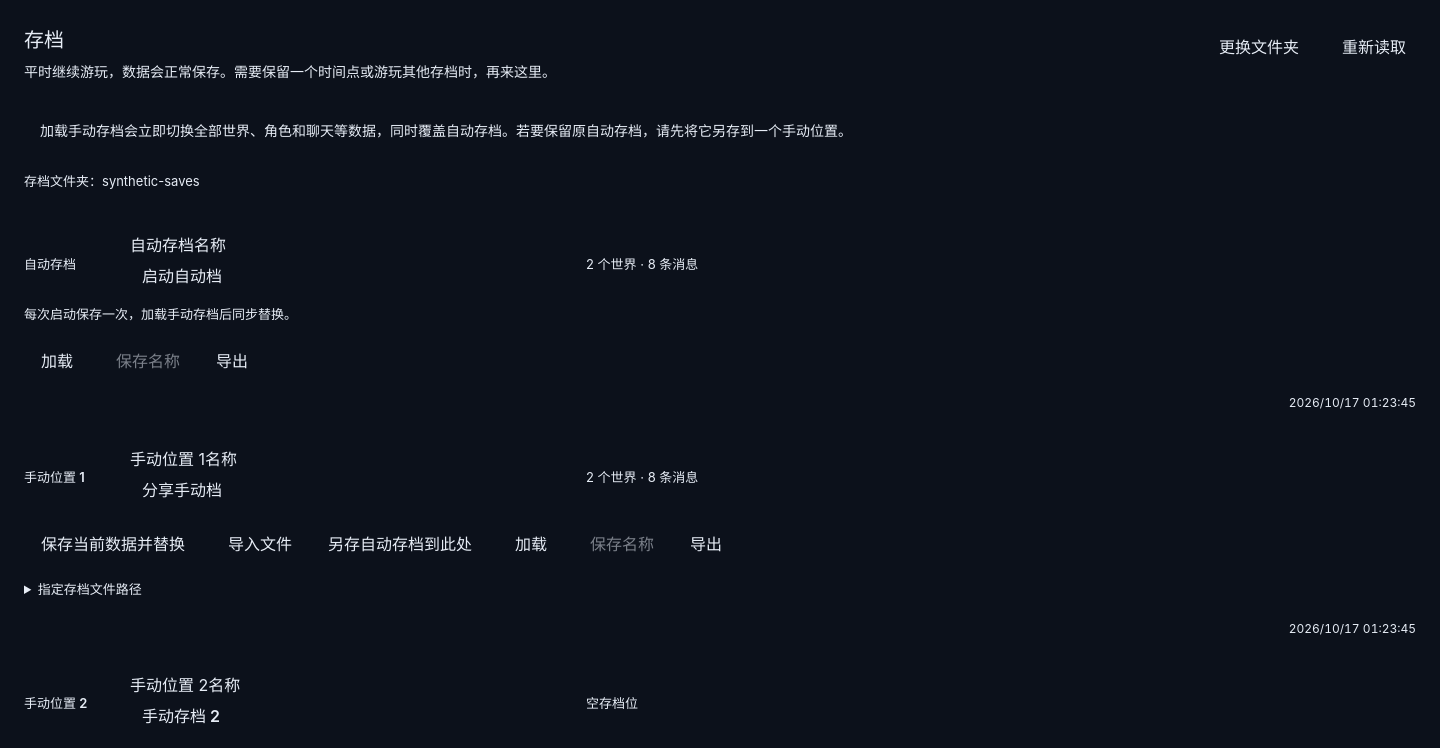
Scenario: keeps existing saves visible on a failed load and offers reconnection
Click the 2nd button "加载" at (531, 544), box [498,522,564,565]
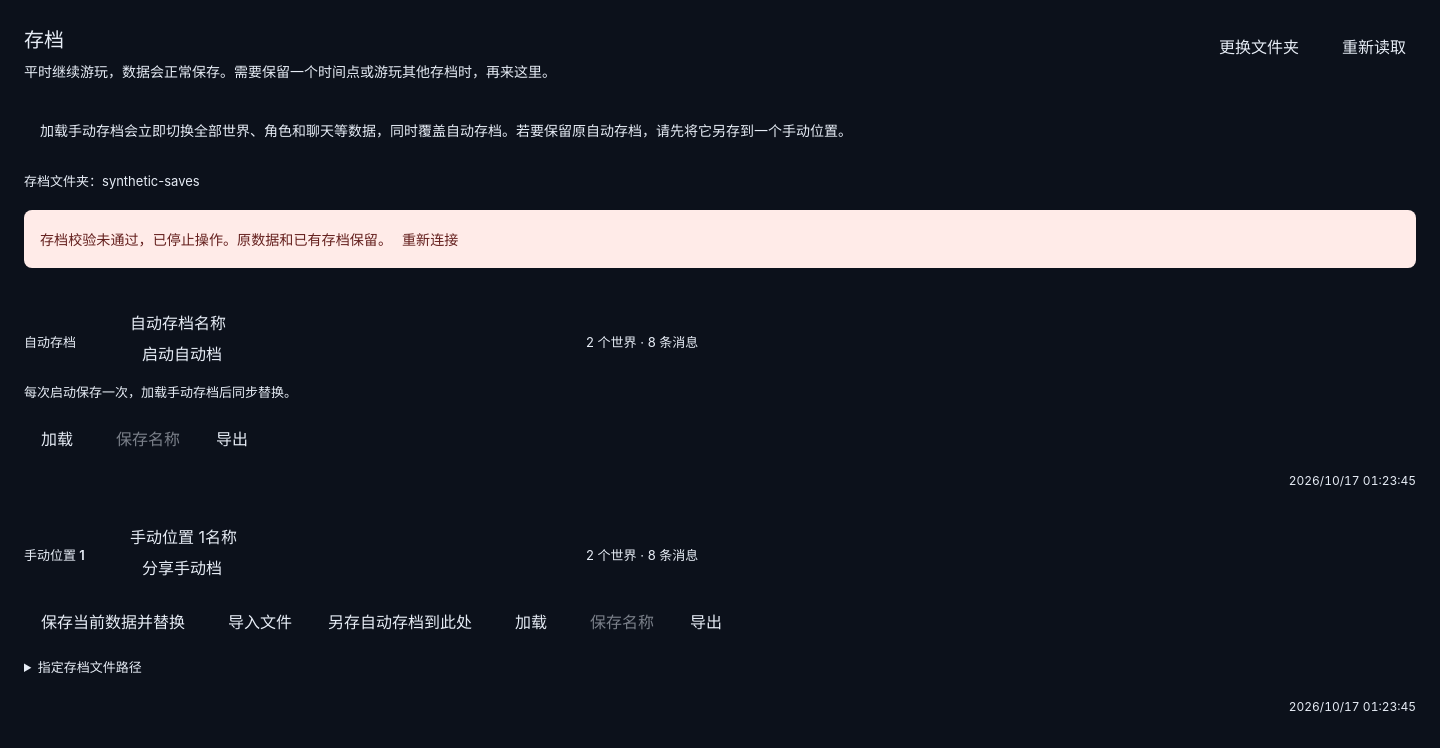
Expected: the field showing "分享手动档" is shown, [130,548,570,586]
Expected: the message shows "原数据和已有存档保留", [40,231,392,248]
Expected: the button "重新连接" is shown, [392,222,468,256]
